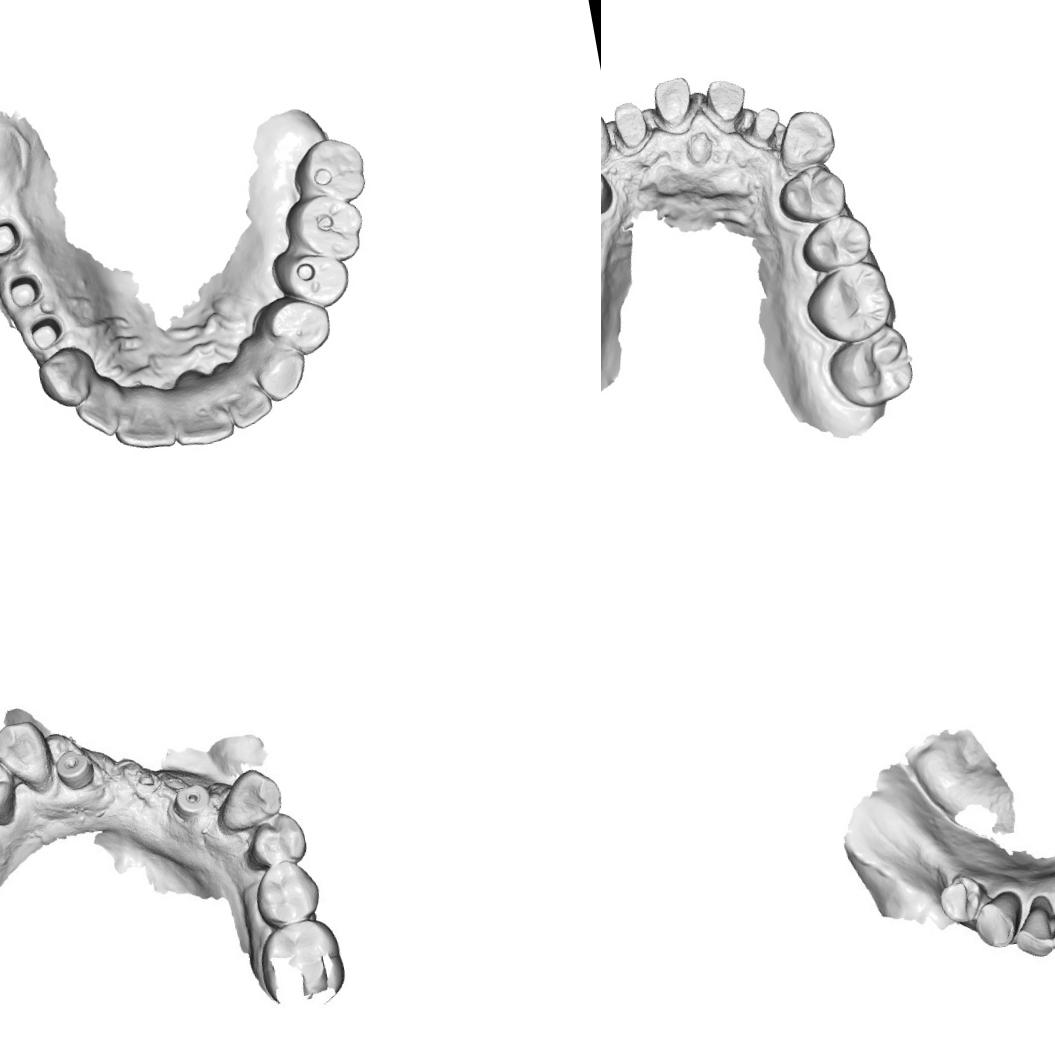abutment: (2, 268, 46, 316), (23, 312, 67, 353), (0, 212, 26, 261)
canine: (210, 764, 289, 832), (770, 104, 839, 176), (244, 337, 314, 407), (33, 341, 100, 413), (0, 709, 52, 798), (970, 890, 1027, 950), (601, 101, 614, 172)
crown: (645, 72, 699, 139), (700, 72, 752, 138), (606, 95, 654, 156), (742, 103, 784, 150)
implant: (50, 740, 101, 794), (170, 780, 210, 821)
incisor: (165, 372, 238, 452), (105, 384, 181, 458), (214, 367, 276, 434), (68, 376, 124, 442), (1008, 905, 1054, 963), (1042, 901, 1055, 956)
molar: (252, 912, 354, 1012), (820, 319, 918, 413), (800, 257, 898, 349), (278, 188, 370, 272), (288, 130, 372, 212)
premolar: (265, 237, 358, 318), (255, 288, 336, 363), (247, 858, 328, 931), (772, 160, 850, 229), (795, 210, 876, 276), (241, 810, 310, 874), (936, 870, 988, 929), (0, 756, 21, 834)
